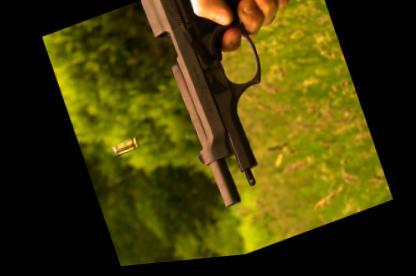pistol: (132, 0, 364, 223)
